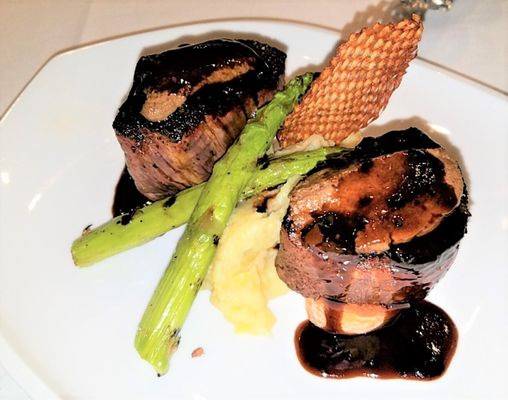soup: (275, 124, 471, 381)
